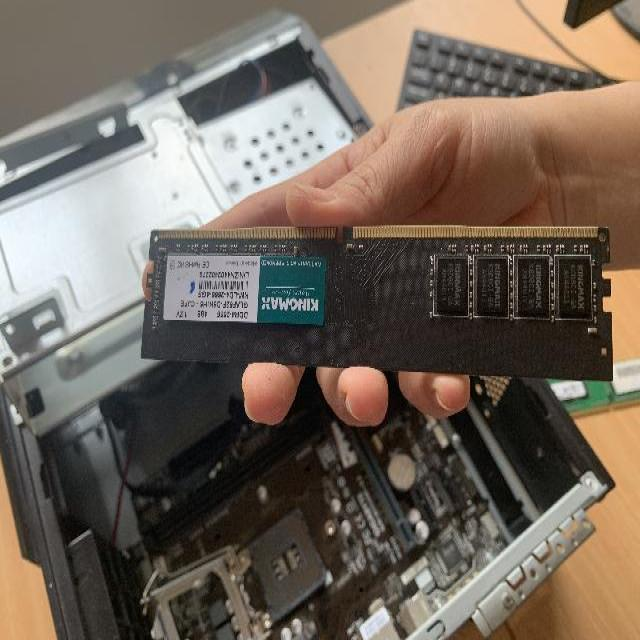RAM: (142, 223, 618, 379)
